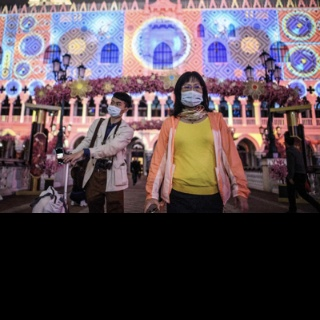with_mask: (179, 81, 204, 108), (106, 100, 126, 119)
